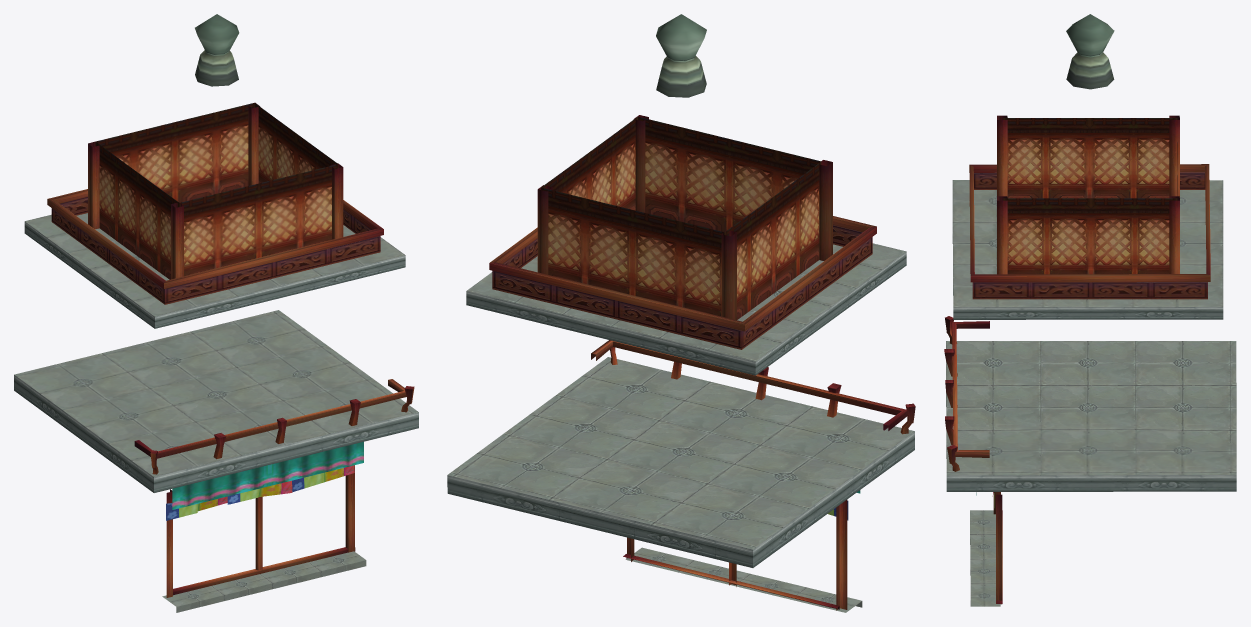
Rendered from szc_building_19a_qiang.FBX.
3 renders of one model, left to right at view 1: azimuth 30°, elevation 25°; view 2: azimuth 150°, elevation 25°; view 3: azimuth 270°, elevation 25°, orthographic. The views are drawn at different scales.
Parts seen in each view (by area): view 1: szc_building_19a_qiang; view 2: szc_building_19a_qiang; view 3: szc_building_19a_qiang.
Part boxes in pixels (left/top/right/bottom): szc_building_19a_qiang: left=14, top=14, right=418, bottom=612; szc_building_19a_qiang: left=447, top=14, right=915, bottom=612; szc_building_19a_qiang: left=944, top=14, right=1236, bottom=606.
Bounding box in the file's own units: 370 × 705 × 338.
